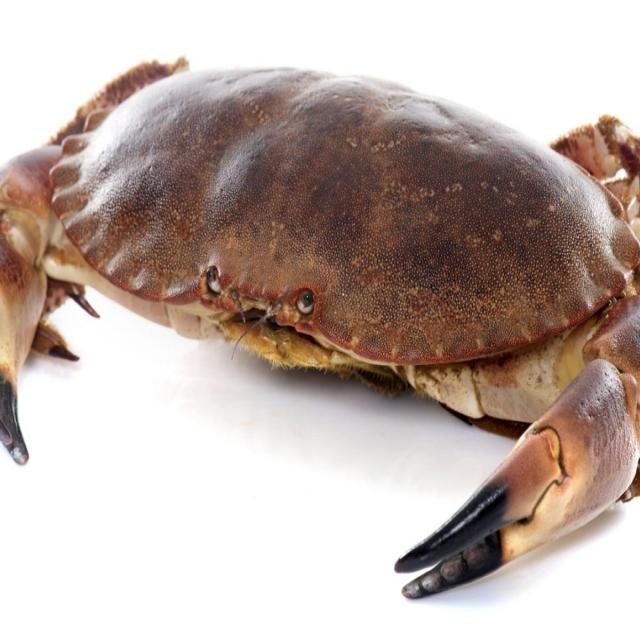crab: (66, 65, 564, 494)
